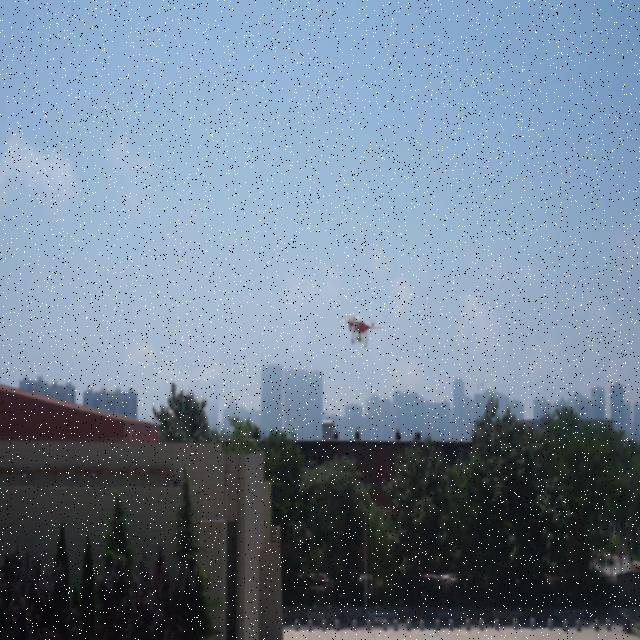UAV: (339, 315, 383, 347)
